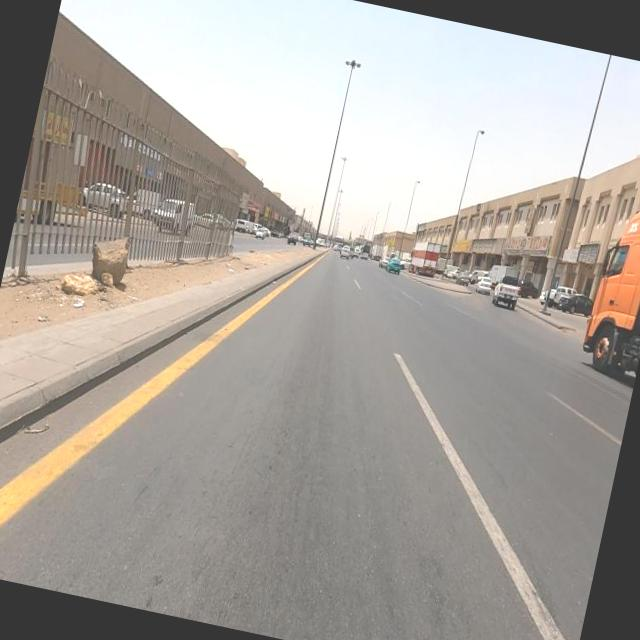debris: (552, 212, 622, 298), (194, 228, 264, 306), (452, 218, 517, 275), (52, 275, 104, 329), (434, 219, 484, 271)
